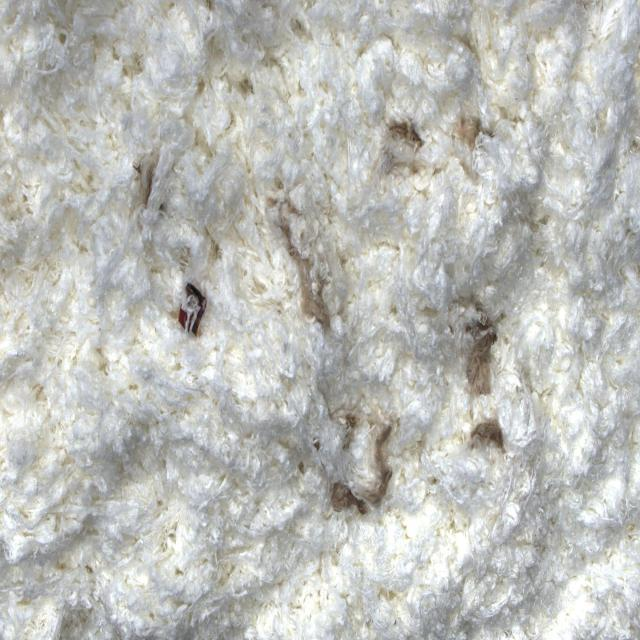dust: (318, 408, 406, 522), (277, 215, 335, 339), (460, 383, 517, 481), (381, 86, 435, 183), (456, 289, 498, 399), (173, 274, 211, 342), (450, 104, 492, 154)
